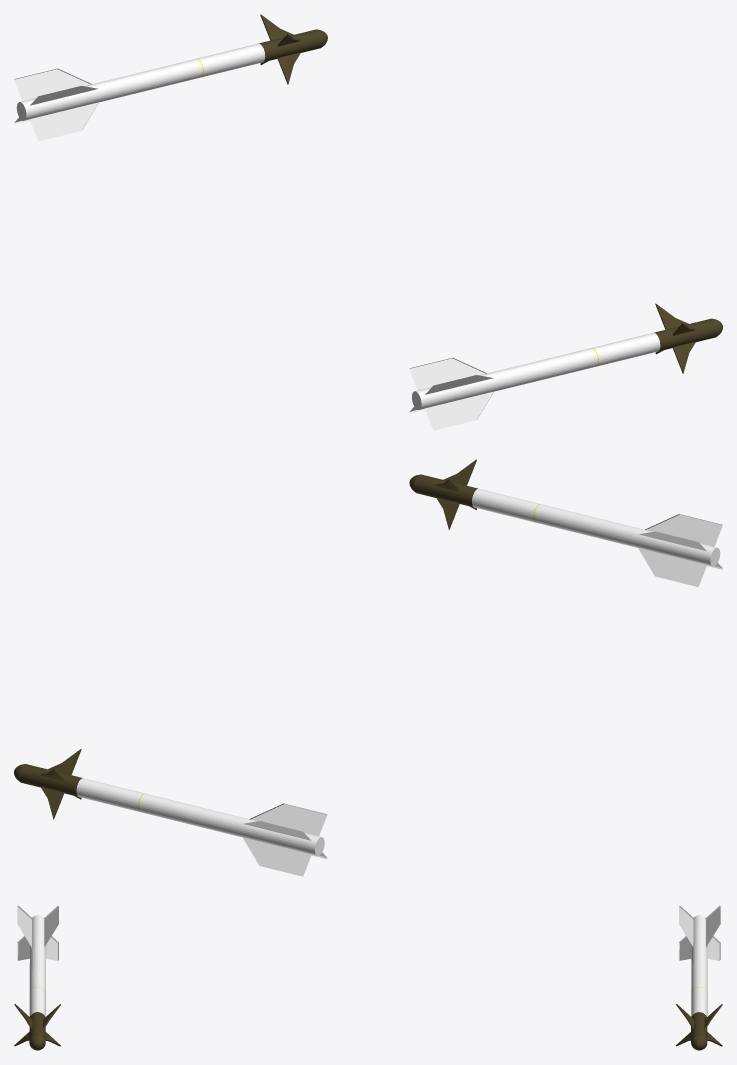
File: f5faim916.glb
3 views of the same model, one above another, from view 1: azimuth 30°, elevation 25°; view 2: azimuth 150°, elevation 25°; view 3: azimuth 270°, elevation 25° (orthographic). The views are drawn at different scales.
Parts seen in each view (by area): view 1: 円柱.004, 円柱.005; view 2: 円柱.005, 円柱.004; view 3: 円柱.004, 円柱.005.
Boxes of the visible parts, x1,y1,x2,y2 form: 円柱.004: (14, 14, 327, 141); 円柱.005: (409, 303, 722, 430); 円柱.005: (409, 459, 722, 586); 円柱.004: (14, 749, 327, 876); 円柱.004: (676, 905, 722, 1050); 円柱.005: (14, 905, 60, 1050).
Bounding box in the file's own units: 3.38 × 0.543 × 8.13.
Materials: 2 (2 with a texture image).
